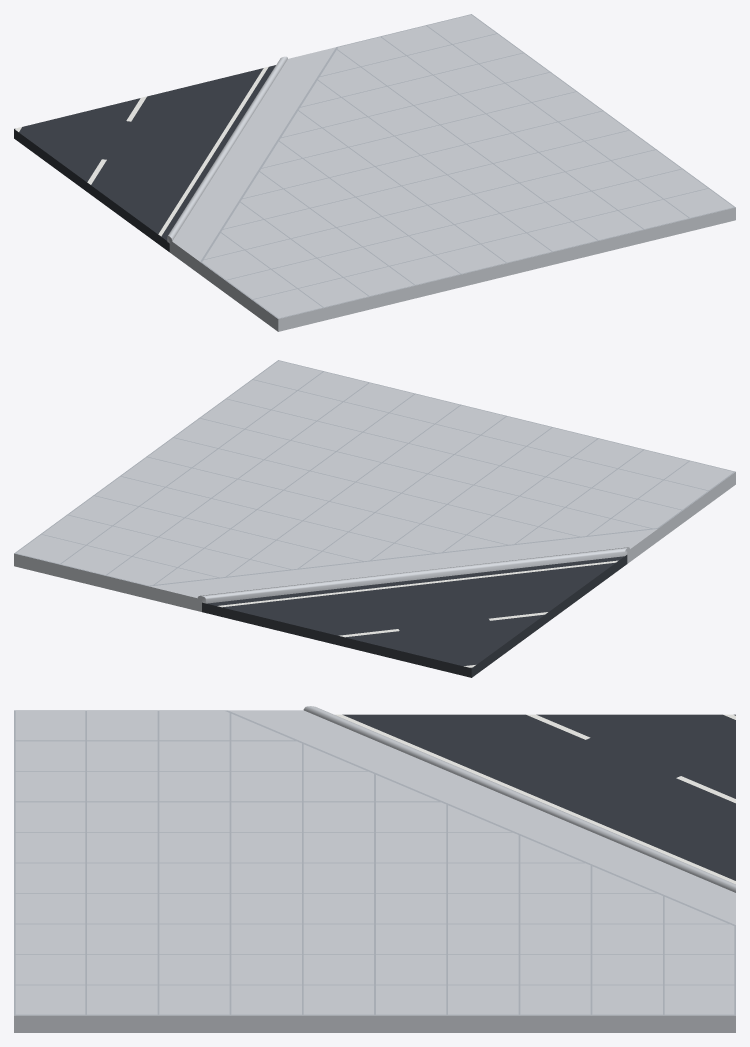
File: avenida_diagonal_enchimento.glb
3 renders of one model, top to bottom at view 1: azimuth 30°, elevation 25°; view 2: azimuth 150°, elevation 25°; view 3: azimuth 270°, elevation 25°, orthographic. The views are drawn at different scales.
Parts seen in each view (by area): view 1: avenida_diagonal_enchimento; view 2: avenida_diagonal_enchimento; view 3: avenida_diagonal_enchimento.
Boxes of the visible parts, <box> form: avenida_diagonal_enchimento: <box>14,14,735,331</box>; avenida_diagonal_enchimento: <box>14,360,735,677</box>; avenida_diagonal_enchimento: <box>14,706,735,1032</box>.
Bounding box in the file's own units: 15 × 0.5 × 15.
Materials: 1 (1 with a texture image).
